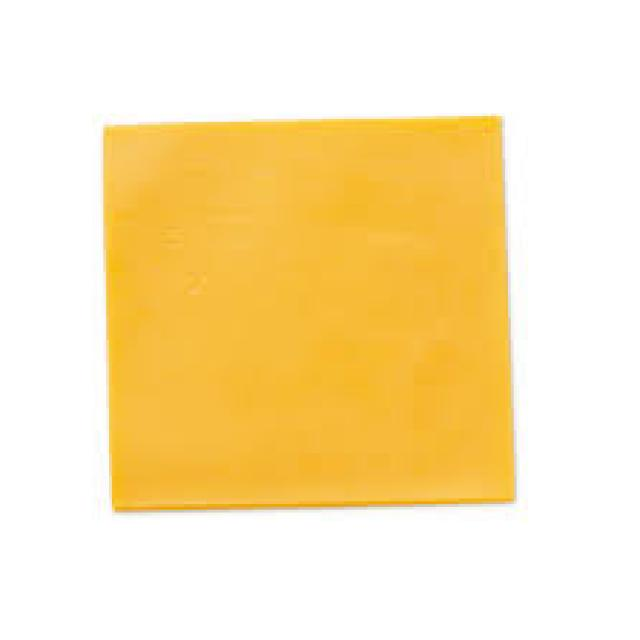cheese: (102, 117, 516, 512)
